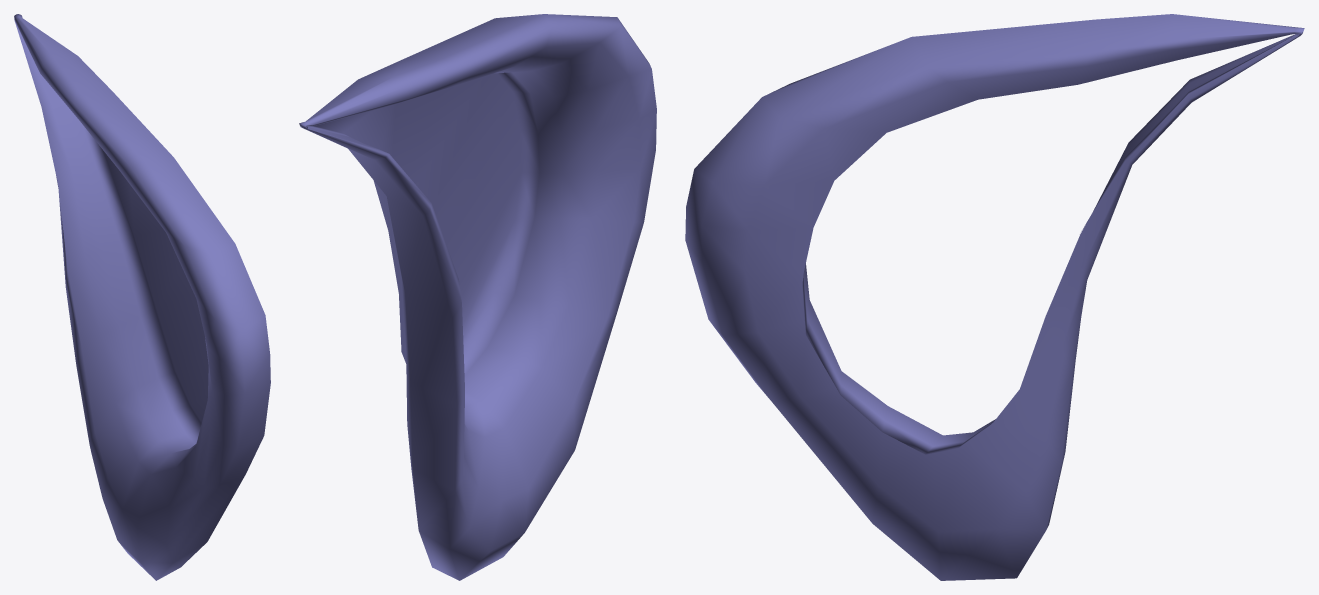
Rendered from Thalamus_Part_A_Trans.gltf.
The picture shows the model from 3 angles, left to right: view 1: azimuth 30°, elevation 25°; view 2: azimuth 150°, elevation 25°; view 3: azimuth 270°, elevation 25°; orthographic projection. The views are drawn at different scales.
Parts seen in each view (by area): view 1: Thalamus_Part_A; view 2: Thalamus_Part_A; view 3: Thalamus_Part_A.
Part boxes in pixels (x1,y1,x2,y2): Thalamus_Part_A: (14, 14, 270, 580); Thalamus_Part_A: (299, 14, 656, 580); Thalamus_Part_A: (685, 14, 1304, 580).
Bounding box in the file's own units: 0.5708 × 2.66 × 2.69.
